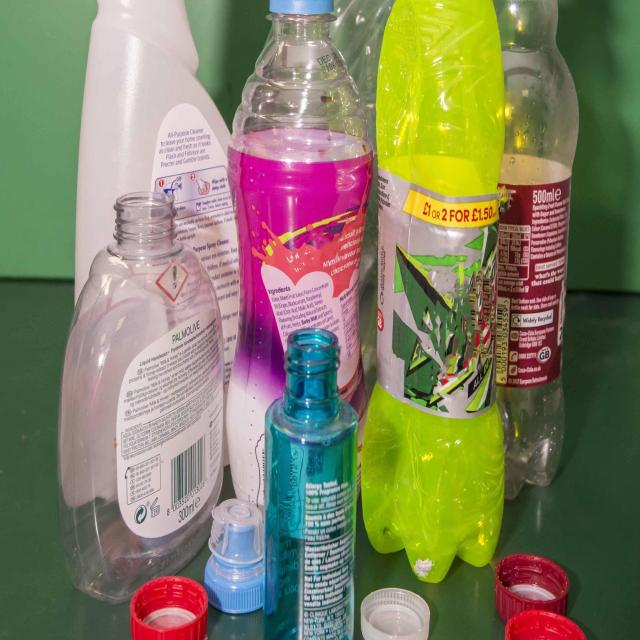plastic_bottle: (370, 1, 505, 563), (229, 1, 377, 493), (65, 189, 225, 614), (487, 1, 589, 503), (257, 317, 364, 637)
